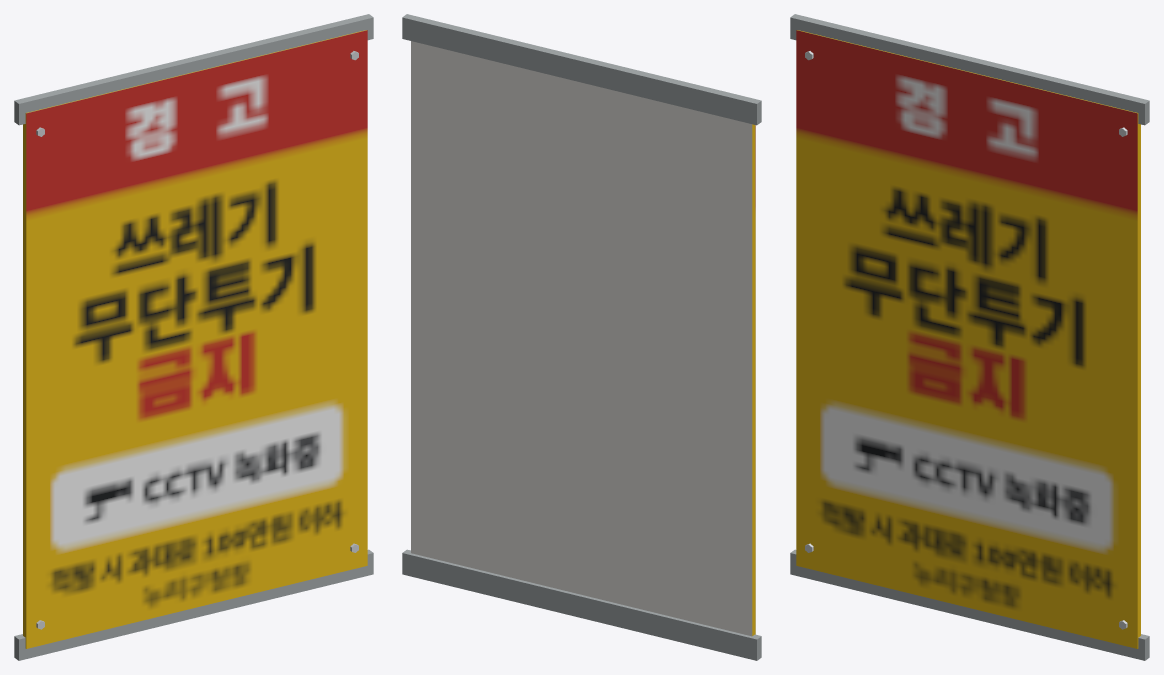
File: SC_Util_Sign_NoDumping.gltf
The picture shows the model from 3 angles, left to right: view 1: azimuth 30°, elevation 25°; view 2: azimuth 150°, elevation 25°; view 3: azimuth 330°, elevation 25°; orthographic projection.
Parts seen in each view (by area): view 1: SC_Util_Sign_NoDumping; view 2: SC_Util_Sign_NoDumping; view 3: SC_Util_Sign_NoDumping.
Boxes of the visible parts, x1,y1,x2,y2 form: SC_Util_Sign_NoDumping: [14, 14, 373, 660]; SC_Util_Sign_NoDumping: [402, 14, 761, 660]; SC_Util_Sign_NoDumping: [790, 14, 1149, 660].
Size of the model in its own units: 0.52 by 0.78 by 0.0175.
2 materials, 2 textured.
